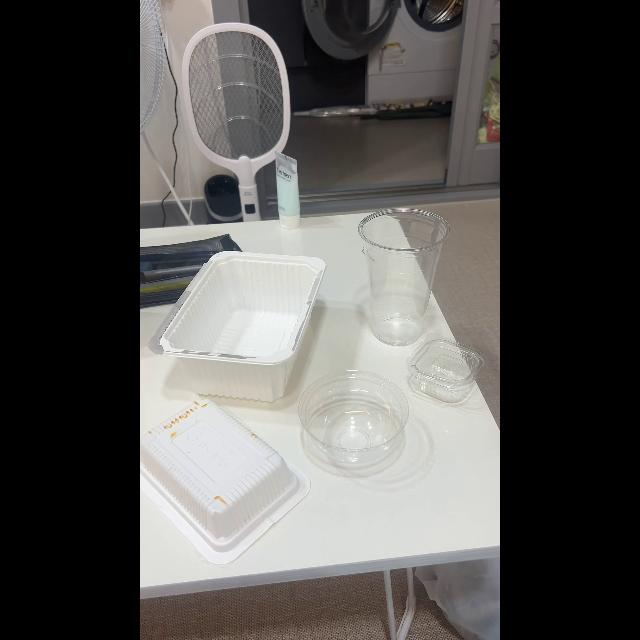clean: (150, 254, 326, 396), (361, 206, 442, 346), (304, 372, 412, 468), (406, 338, 486, 402)
dirty: (141, 400, 295, 542)
